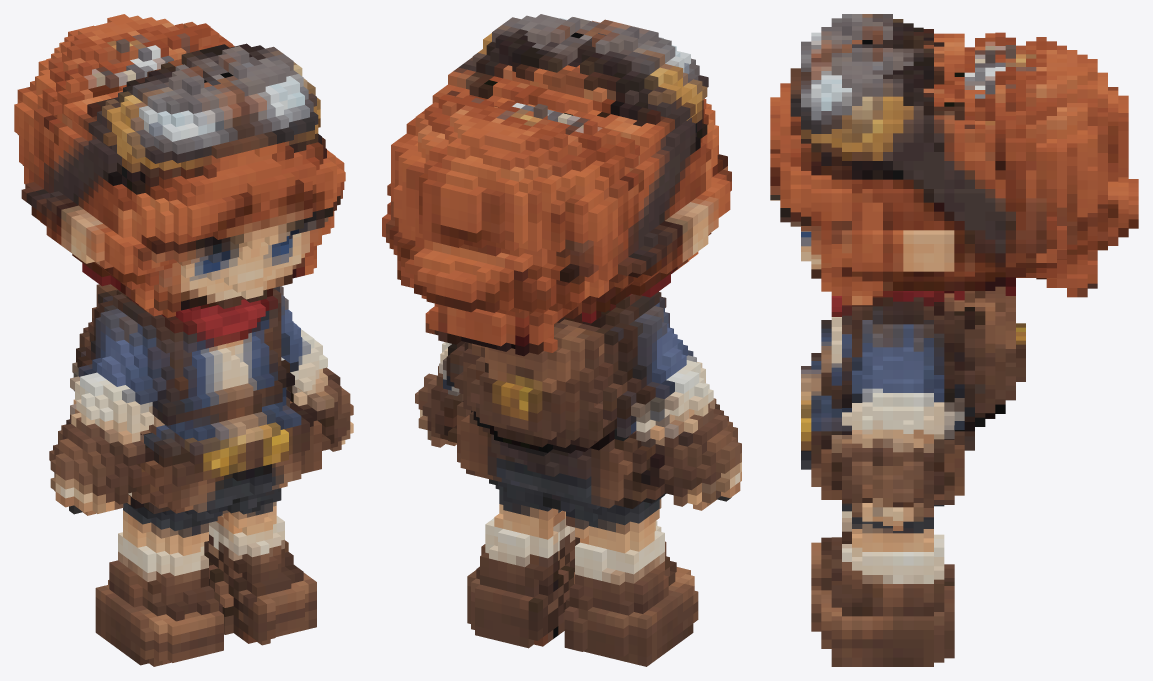
File: character.glb
3 renders of one model, left to right at view 1: azimuth 30°, elevation 25°; view 2: azimuth 150°, elevation 25°; view 3: azimuth 270°, elevation 25°, orthographic. The views are drawn at different scales.
Visible parts, largest first — view 1: world; view 2: world; view 3: world.
Part boxes in pixels (bbox=[...]): world: bbox=[14, 14, 353, 666]; world: bbox=[382, 14, 741, 666]; world: bbox=[770, 14, 1138, 666].
Bounding box in the file's own units: 1.06 × 1.97 × 1.12.
